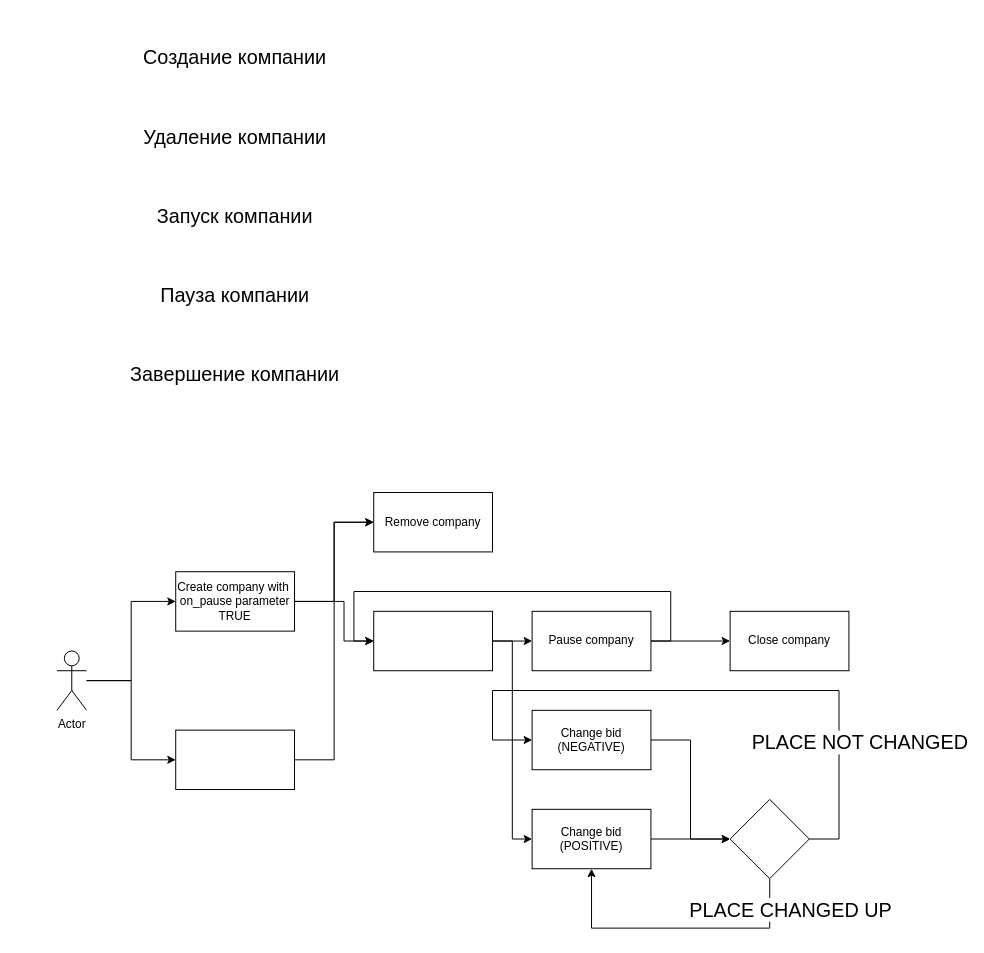
This 984x953 diagram has some shape labels left out. The shapes that lost their labels are listed below. From the top down, each one's centre as x and y in pixels, then its label:
[433,640]: Start company
[235,759]: Create company with on_pause parameter FALSE
[769,838]: Check place
